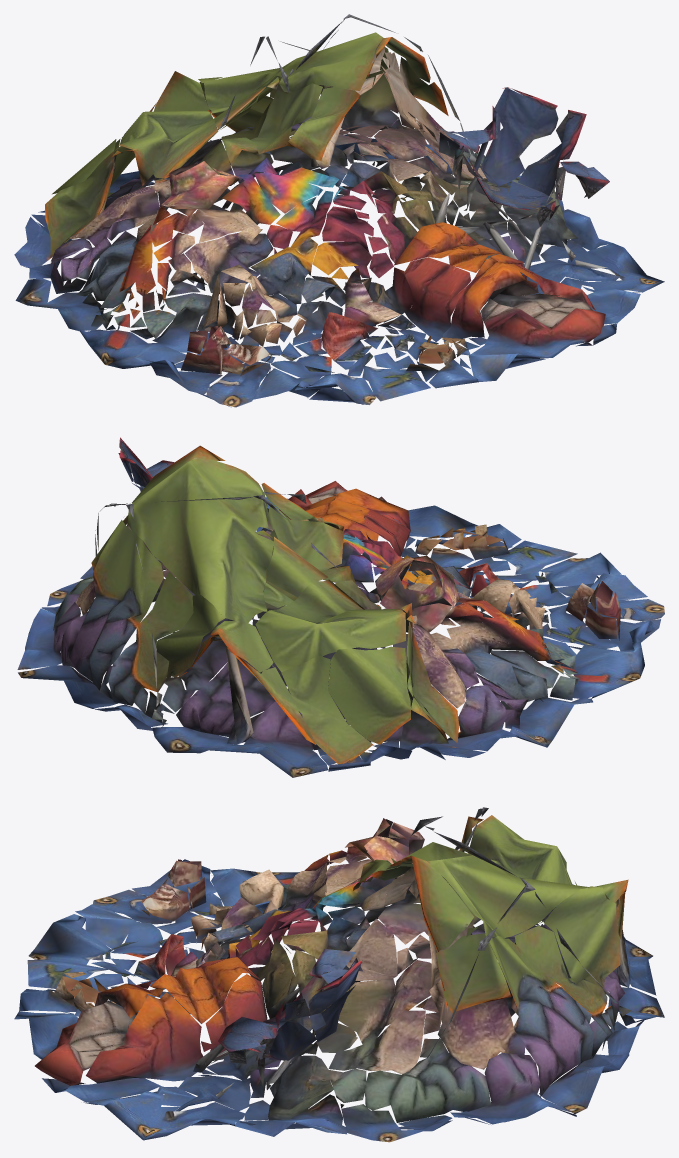
Rendered from freepile.glb.
3 views of the same model, one above another, from view 1: azimuth 30°, elevation 25°; view 2: azimuth 150°, elevation 25°; view 3: azimuth 270°, elevation 25° (orthographic). The views are drawn at different scales.
Visible parts, largest first — view 1: tripo_node_e2ce9242-365e-4e47-b993-88cd60a9b909; view 2: tripo_node_e2ce9242-365e-4e47-b993-88cd60a9b909; view 3: tripo_node_e2ce9242-365e-4e47-b993-88cd60a9b909.
Boxes of the visible parts, x1,y1,x2,y2 form: tripo_node_e2ce9242-365e-4e47-b993-88cd60a9b909: (14,14,664,407); tripo_node_e2ce9242-365e-4e47-b993-88cd60a9b909: (17,437,664,777); tripo_node_e2ce9242-365e-4e47-b993-88cd60a9b909: (14,807,664,1142).
Size of the model in its own units: 3.22 by 1.17 by 3.27.
1 material, 1 textured.
